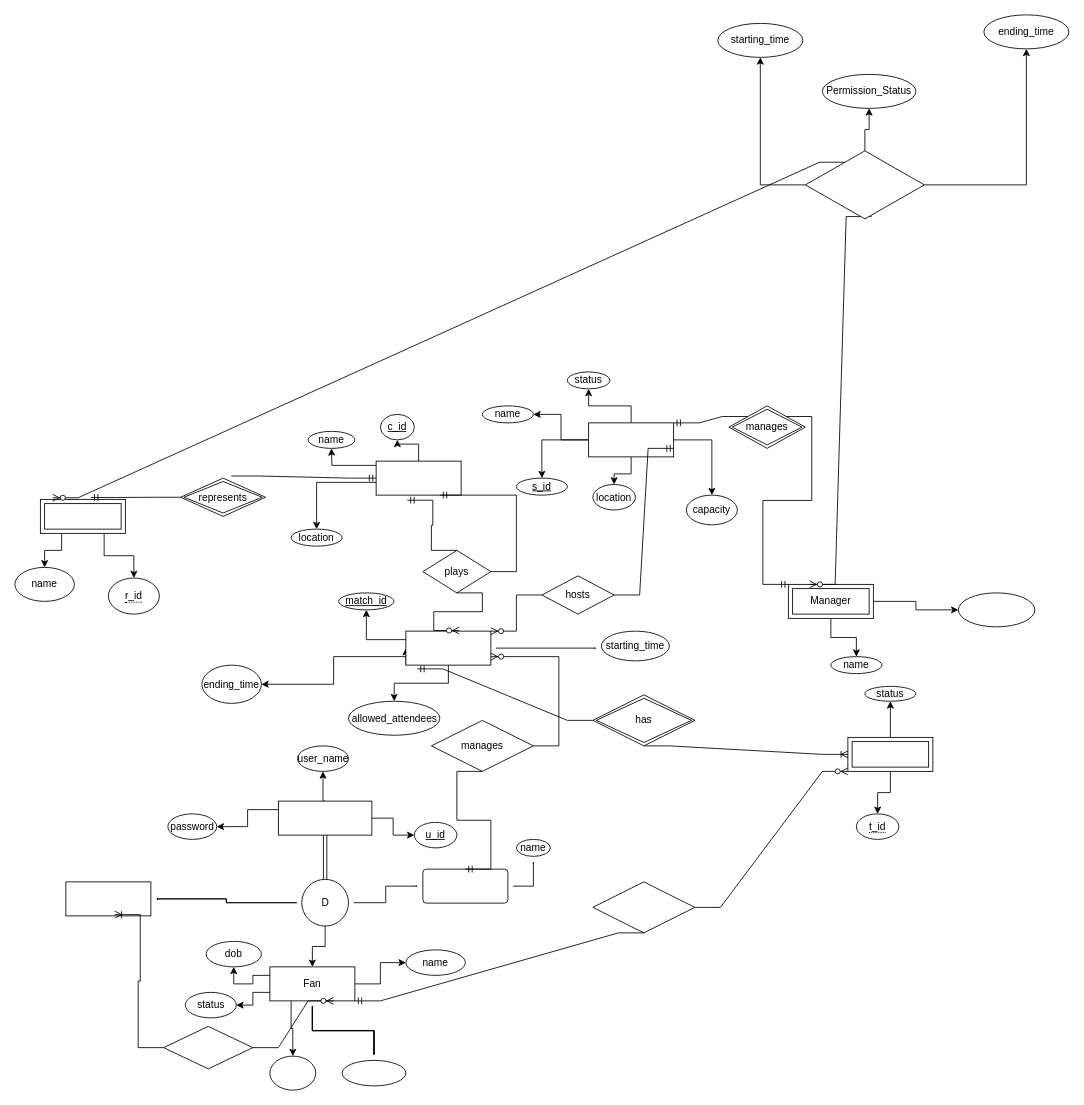
Image size: 1084x1105. Some labels were removed from this diagram. Here are the shapes that lost their labels. From the top down, the box of each, then its label:
(805, 150, 924, 219): requests_permission
(588, 422, 674, 457): Stadium
(375, 460, 461, 495): Club
(40, 499, 125, 533): Representative
(958, 592, 1035, 627): manager_id
(405, 630, 491, 665): Match
(847, 737, 933, 771): Ticket
(278, 800, 372, 835): User
(65, 881, 151, 916): System_Admin
(422, 868, 508, 903): Associative Manager
(592, 881, 695, 933): owns
(163, 1026, 253, 1069): blocks
(269, 1055, 316, 1090): duration
(341, 1060, 406, 1086): national_id
